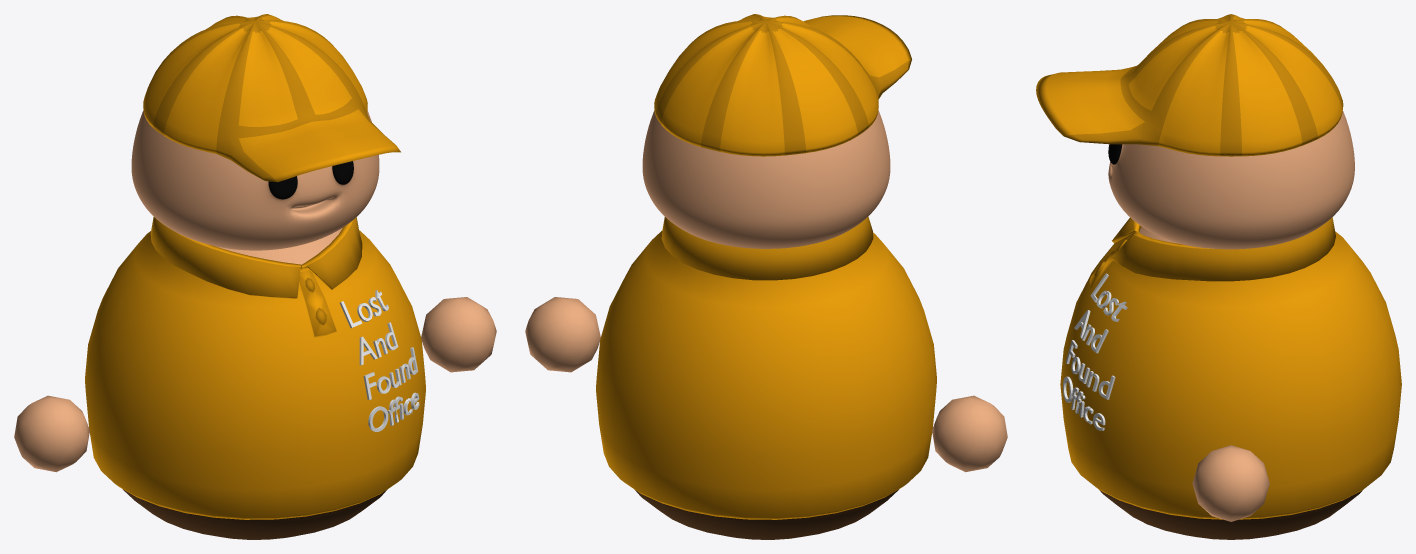
File: Player.fbx
3 renders of one model, left to right at view 1: azimuth 30°, elevation 25°; view 2: azimuth 150°, elevation 25°; view 3: azimuth 270°, elevation 25°, orthographic.
Visible parts, largest first — view 1: Shirt, Cap, Head, Body, Hand, Hand.001, Text; view 2: Shirt, Cap, Head, Hand, Hand.001, Body; view 3: Shirt, Cap, Head, Hand.001, Body, Text.
Boxes of the visible parts, bbox=[...] form: Shirt: bbox=[85, 217, 425, 519]; Cap: bbox=[143, 14, 400, 182]; Head: bbox=[131, 110, 379, 250]; Body: bbox=[122, 228, 387, 539]; Hand: bbox=[14, 395, 89, 472]; Hand.001: bbox=[421, 297, 496, 372]; Text: bbox=[339, 290, 419, 431]; Shirt: bbox=[596, 216, 936, 519]; Cap: bbox=[654, 14, 911, 156]; Head: bbox=[642, 110, 890, 248]; Hand: bbox=[932, 395, 1007, 472]; Hand.001: bbox=[525, 297, 600, 372]; Body: bbox=[634, 489, 899, 539]; Shirt: bbox=[1060, 217, 1401, 519]; Cap: bbox=[1036, 14, 1343, 156]; Head: bbox=[1108, 110, 1354, 249]; Hand.001: bbox=[1192, 445, 1269, 521]; Body: bbox=[1099, 227, 1362, 539]; Text: bbox=[1063, 273, 1127, 430].
Bounding box in the file's own units: 278 × 279 × 187.
